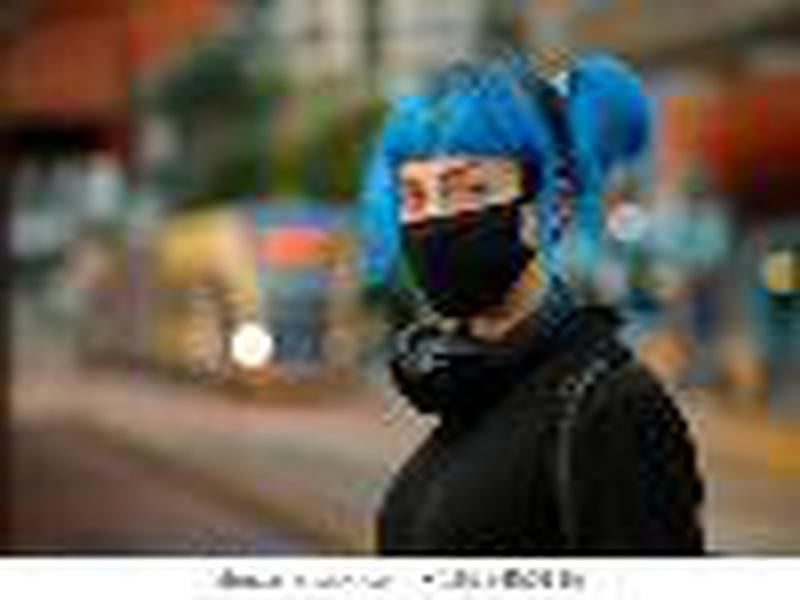with_mask: (397, 61, 578, 325)
